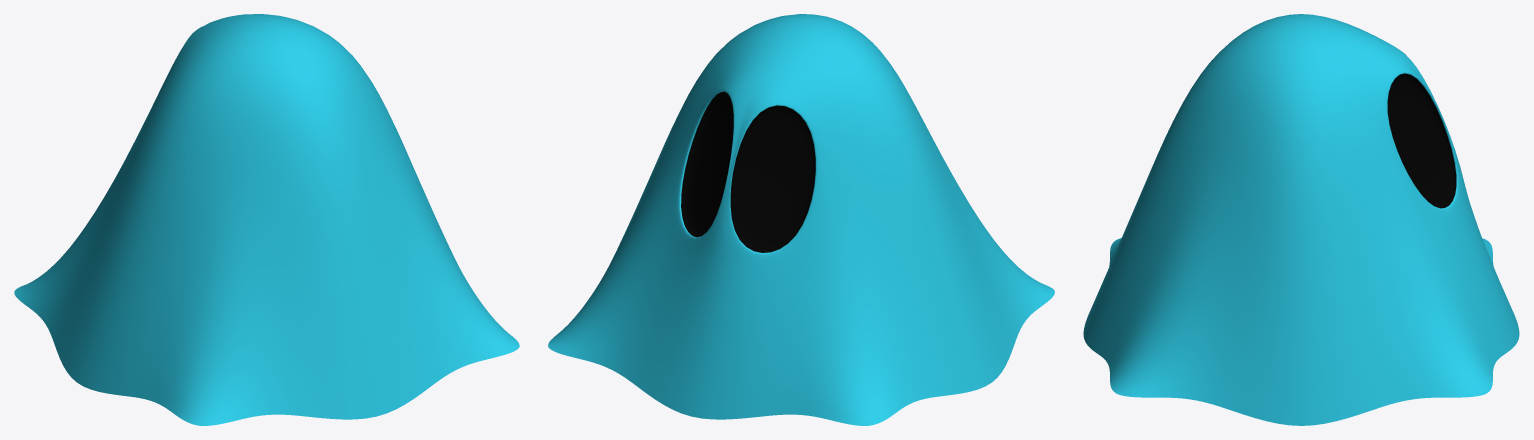
Rendered from NOT -GLOWY GHOSTd.fbx.
3 renders of one model, left to right at view 1: azimuth 30°, elevation 25°; view 2: azimuth 150°, elevation 25°; view 3: azimuth 270°, elevation 25°, orthographic.
Visible parts, largest first — view 1: Plane; view 2: Plane; view 3: Plane.
Boxes of the visible parts, x1,y1,x2,y2 form: Plane: (14, 14, 519, 425); Plane: (548, 14, 1054, 425); Plane: (1083, 14, 1519, 425).
Bounding box in the file's own units: 228 × 179 × 228.
